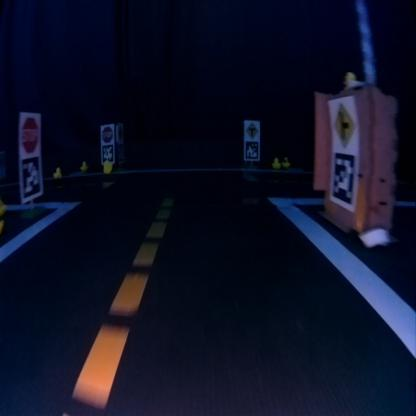Duckie: (102, 160, 112, 174), (272, 157, 280, 168), (53, 167, 61, 177), (80, 160, 87, 171), (281, 157, 288, 166)
Intersection sign: (331, 100, 357, 150), (245, 121, 257, 140)
QR code: (330, 154, 355, 206), (19, 159, 41, 199), (243, 140, 259, 160), (101, 143, 114, 162)
Stop sign: (20, 116, 39, 154), (100, 126, 113, 143)
